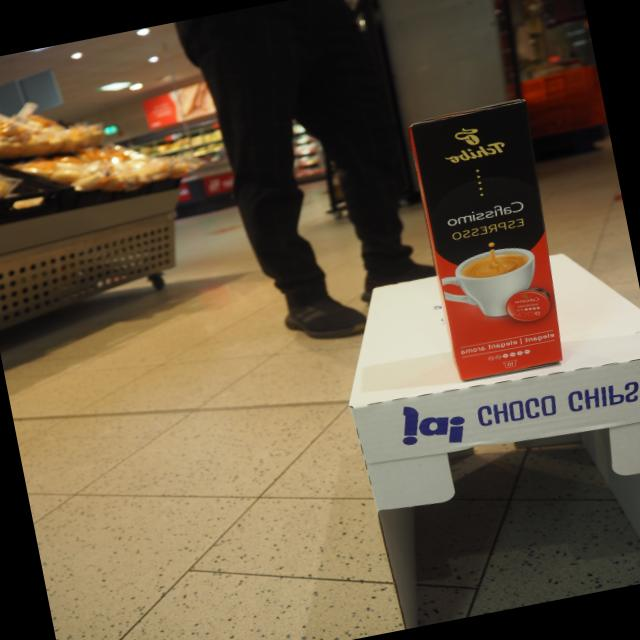Simo Es Elegant: (403, 94, 570, 385)
